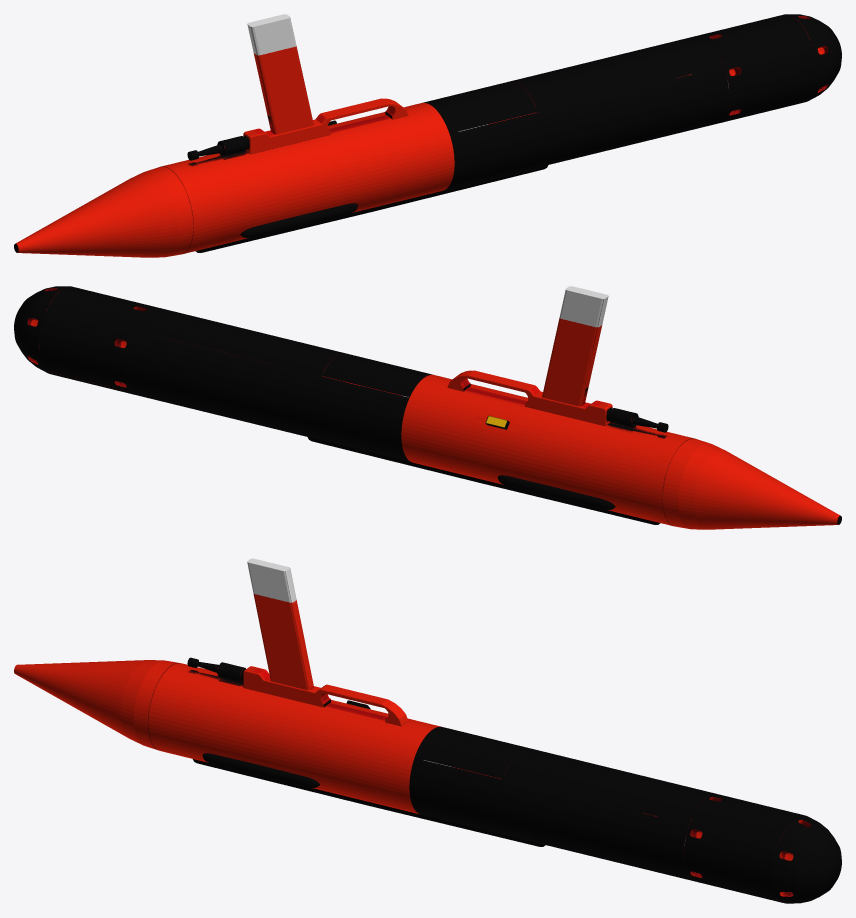
The model's file is body.dae.
3 renders of one model, top to bottom at view 1: azimuth 30°, elevation 25°; view 2: azimuth 150°, elevation 25°; view 3: azimuth 330°, elevation 25°, orthographic.
Visible parts, largest first — view 1: LAUV_Body; view 2: LAUV_Body; view 3: LAUV_Body.
Part boxes in pixels (bbox=[...]): LAUV_Body: bbox=[14, 14, 841, 257]; LAUV_Body: bbox=[14, 286, 841, 529]; LAUV_Body: bbox=[14, 558, 841, 903].
Size of the model in its own units: 1.08 by 0.1028 by 0.2707.
1 material, 1 textured.
